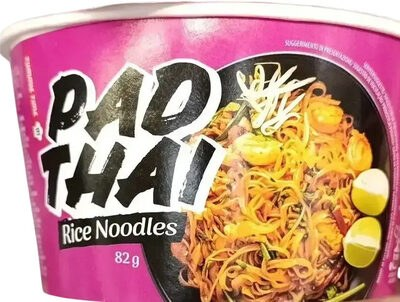SERVEERSUGGESTIE/SUGGESTION DE PRESENTATION SERVIE: (20, 15, 380, 287)
